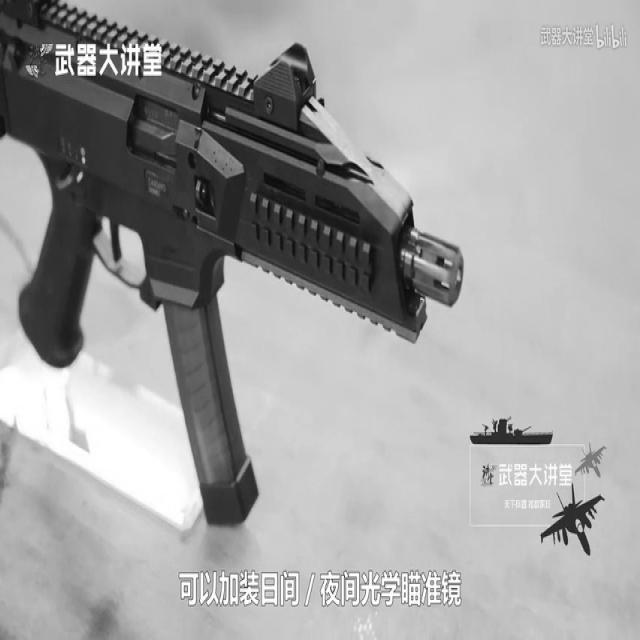Rifle: (0, 0, 487, 575)
